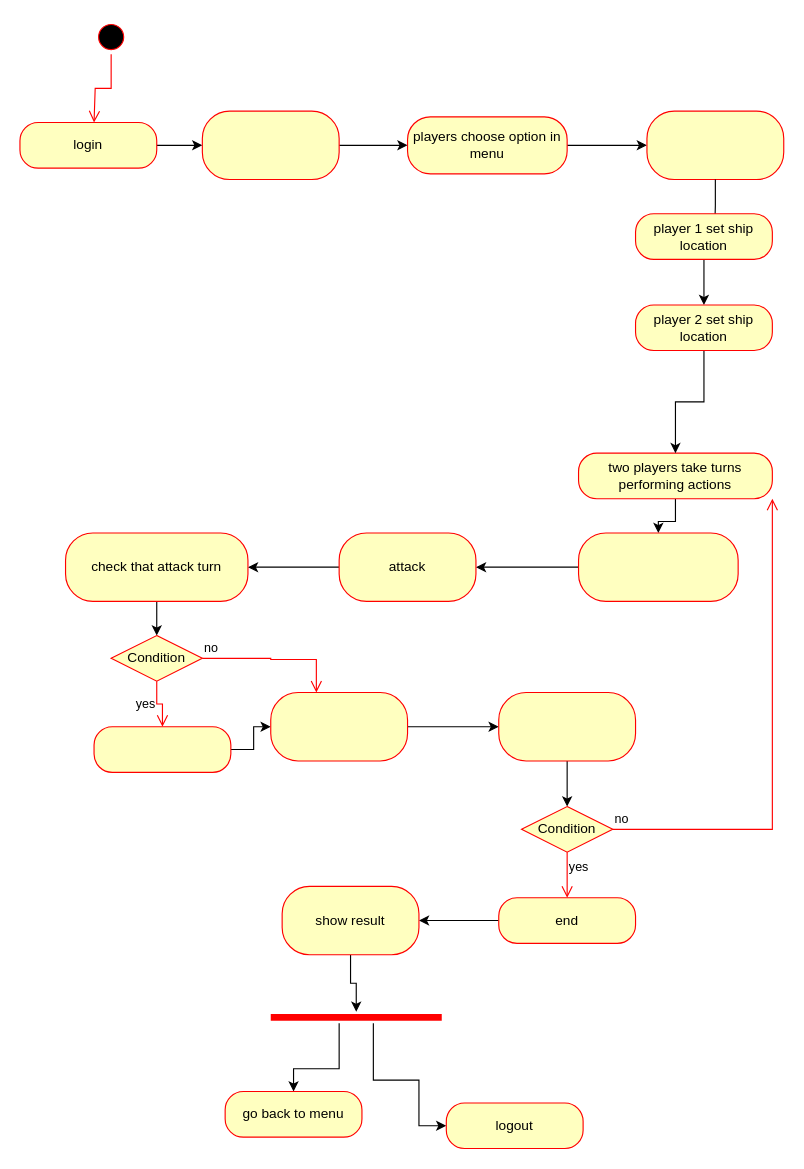
Some shapes in this 804 by 1169 pixel diagram are drawn without their labels. The shapes that lost their labels are listed below. From the top down, each one's box as (x1, y1, x2, y2) in pixels, then its label:
(201, 110, 339, 180): show menu
(646, 110, 784, 180): set up battle
(577, 532, 738, 601): view board
(270, 691, 408, 761): end turn
(498, 691, 636, 761): check rival ship was ruined
(93, 726, 231, 772): inform
